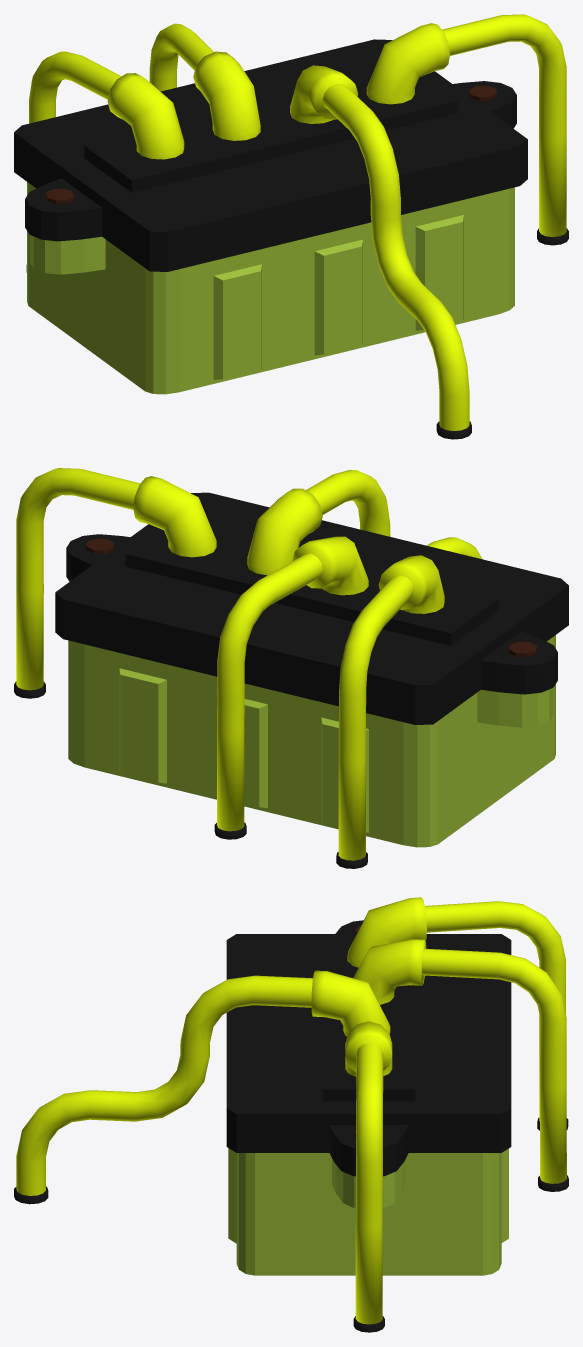
Rendered from Mesh_MtPanorama_Generator.FBX.
3 views of the same model, one above another, from view 1: azimuth 30°, elevation 25°; view 2: azimuth 150°, elevation 25°; view 3: azimuth 270°, elevation 25° (orthographic). The views are drawn at different scales.
Visible parts, largest first — view 1: Mesh_MtPanorama_Generator; view 2: Mesh_MtPanorama_Generator; view 3: Mesh_MtPanorama_Generator.
Boxes of the visible parts, left/top/right/bottom form: Mesh_MtPanorama_Generator: left=14, top=14, right=568, bottom=439; Mesh_MtPanorama_Generator: left=14, top=468, right=568, bottom=868; Mesh_MtPanorama_Generator: left=14, top=897, right=568, bottom=1332.
Size of what is drawn, in the model's own units: 851 by 780 by 367.
